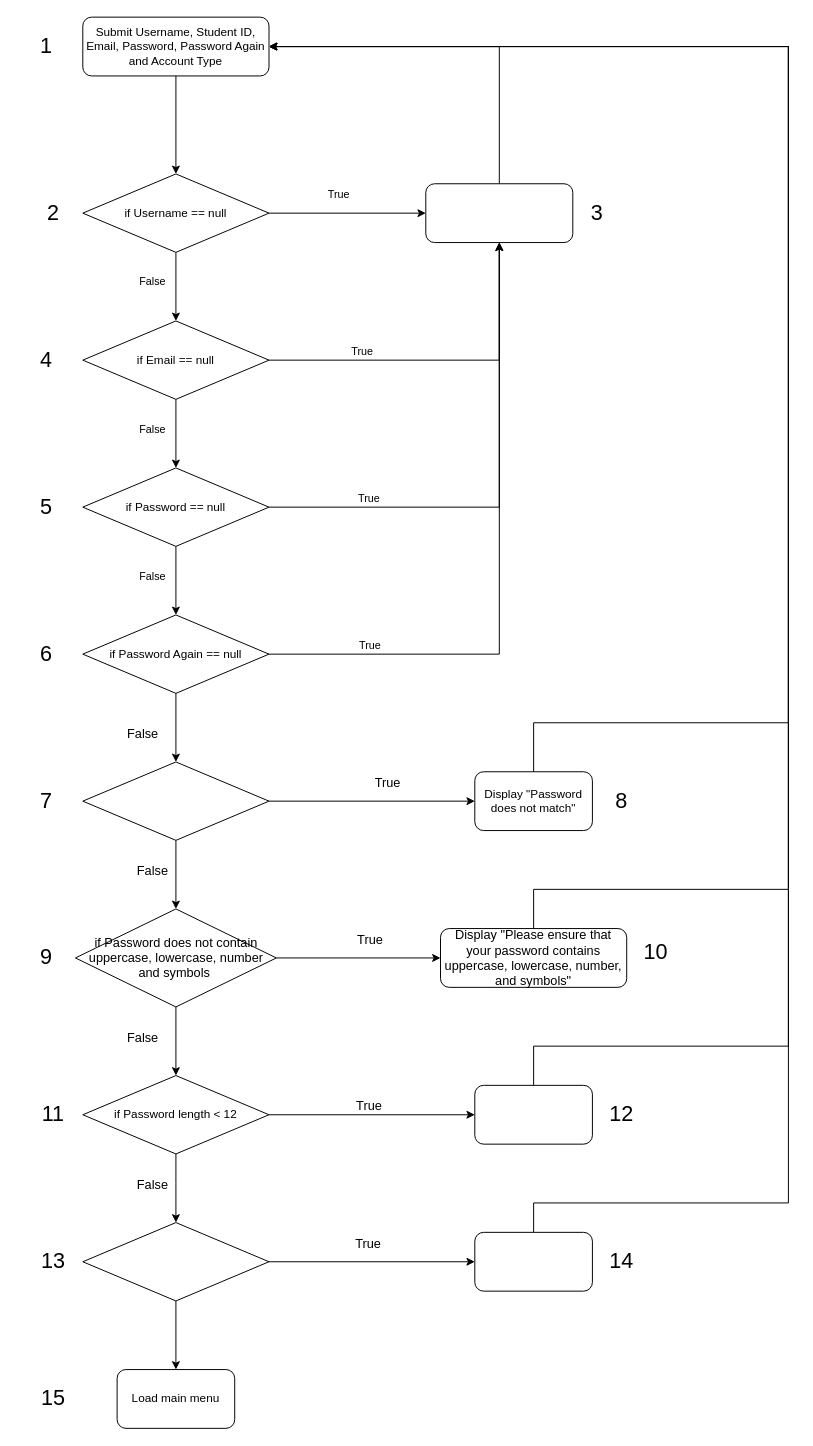
Image size: 813x1446. Some labels were removed from this diagram. Each missing label, with the centre of its shape:
Display "Email exists in database": (533,1261)
Display "Password is less than 12 characters long": (533,1114)
Display "There are empty fields": (499,213)
if Email already registered: (175,1261)
if Password Again != Password: (175,800)
